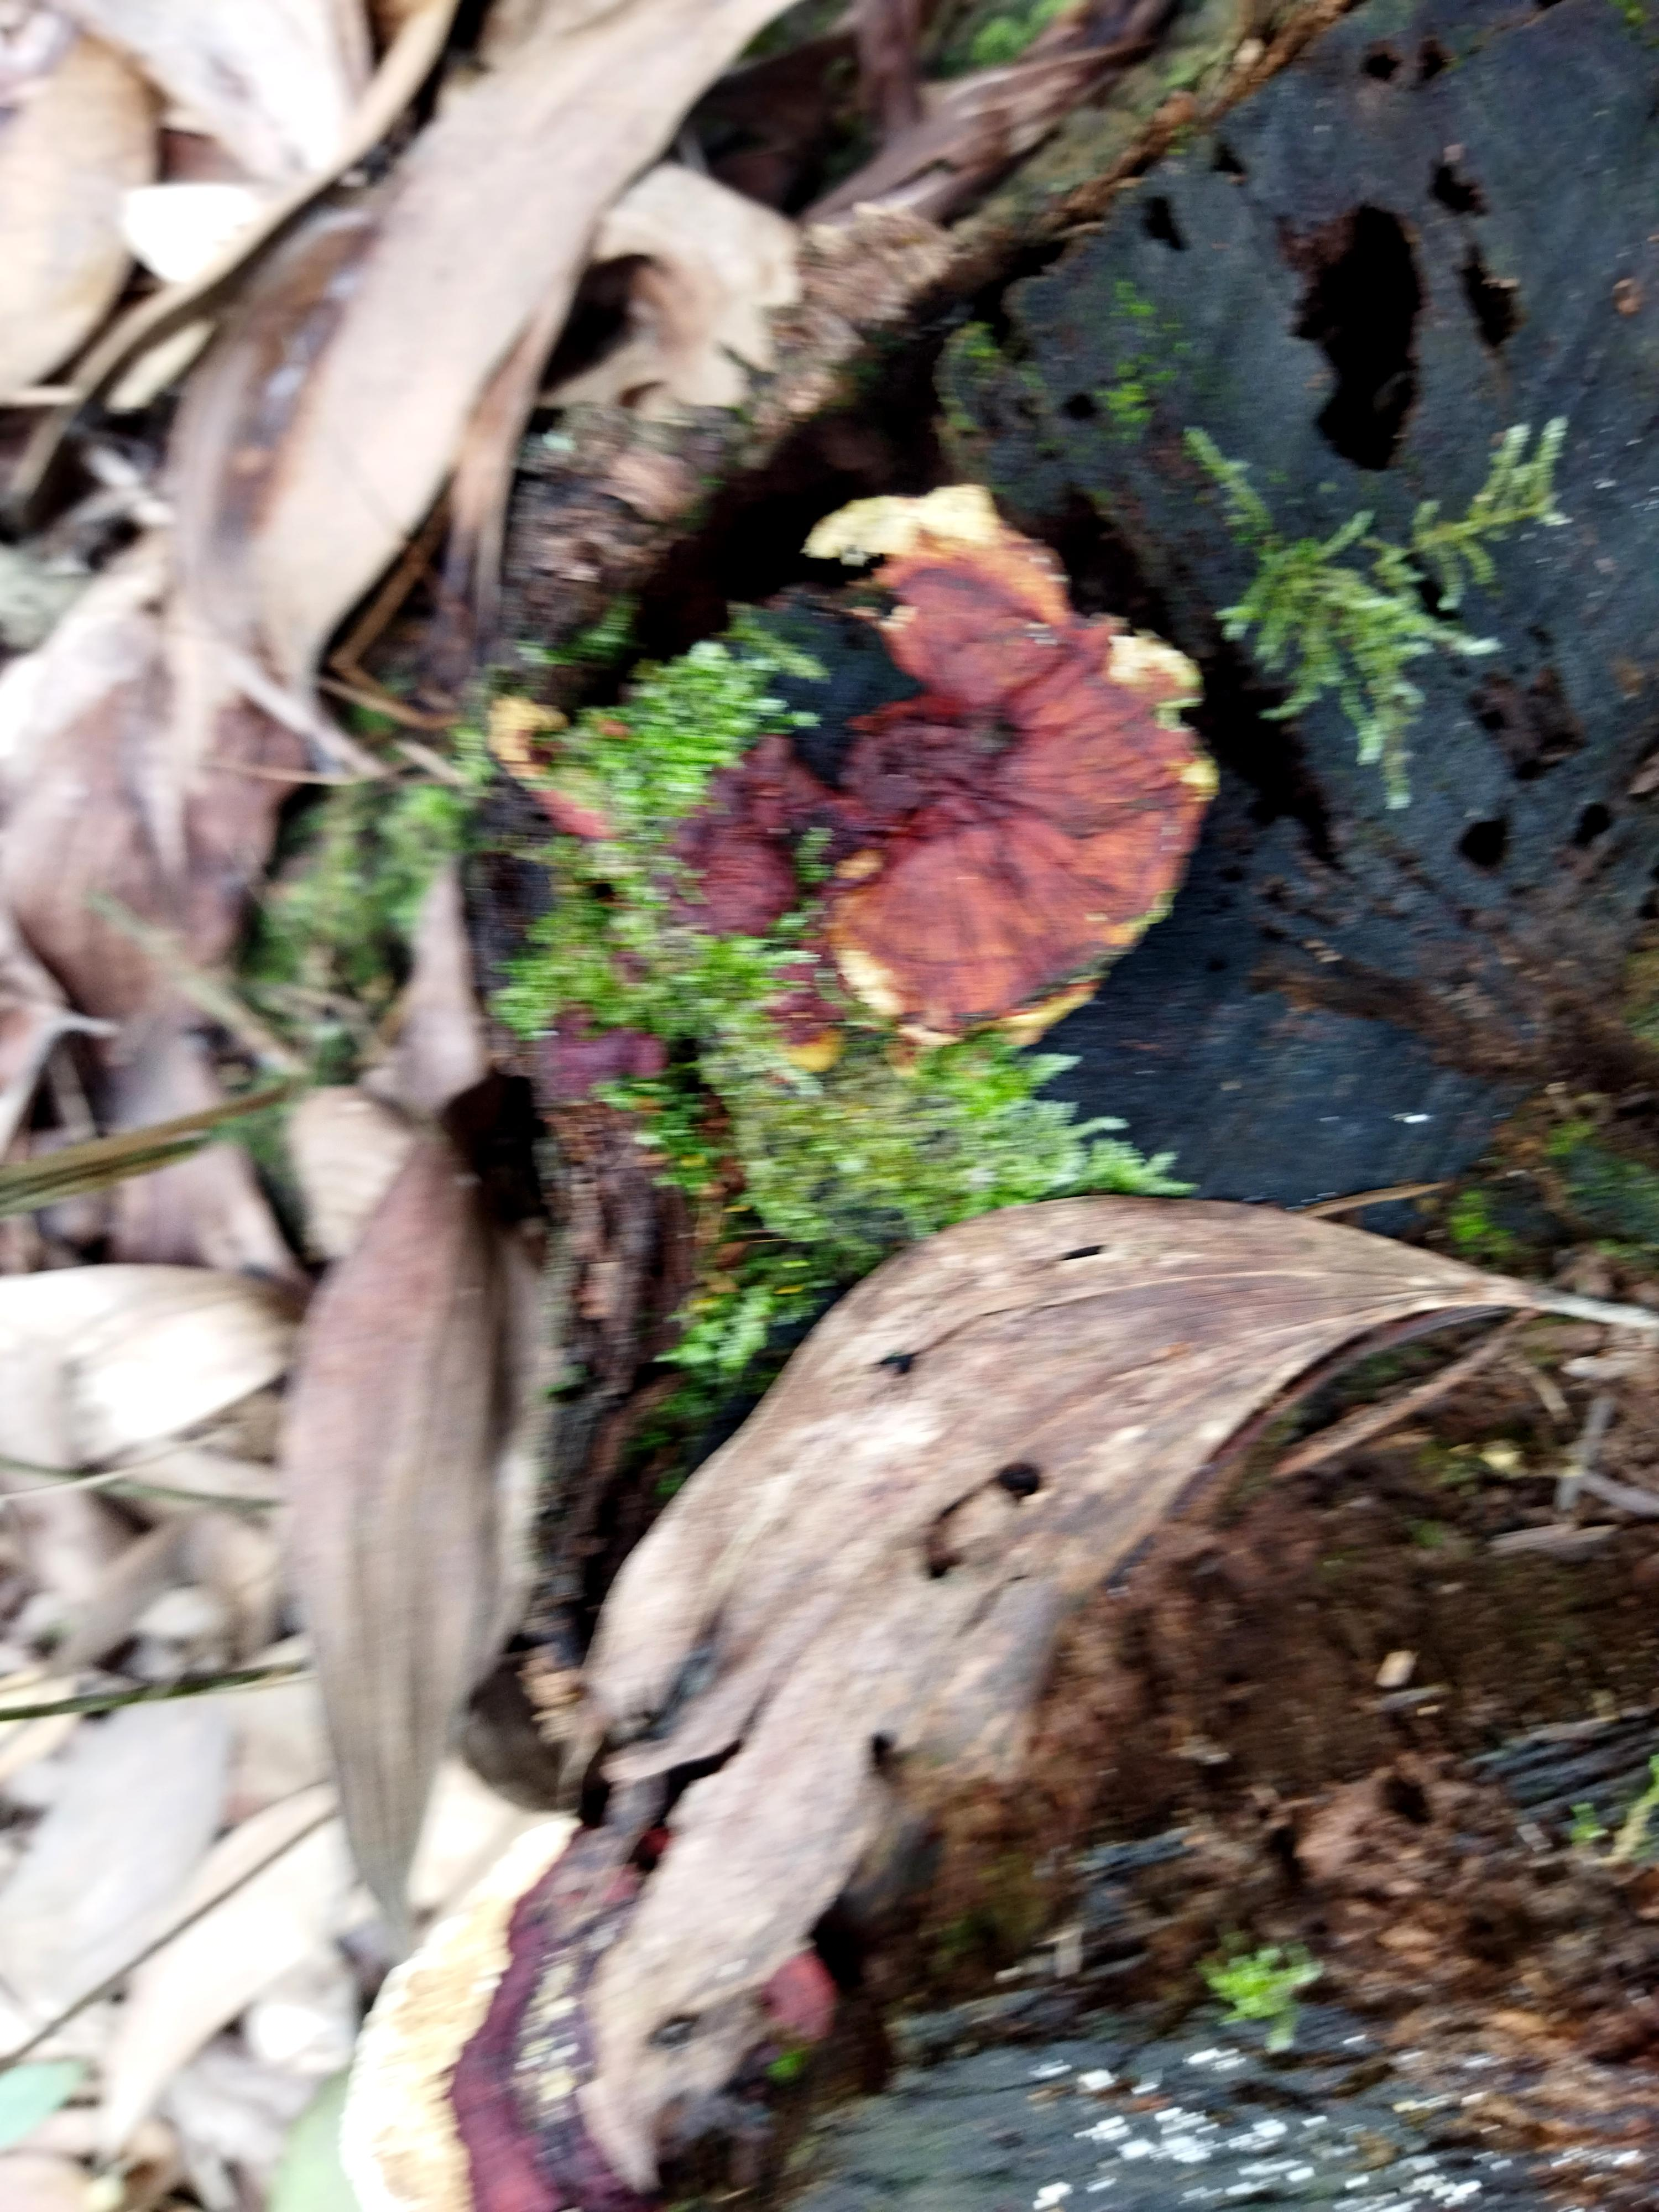Ganoderma - Fruit Body: (765, 437, 1253, 1066)
